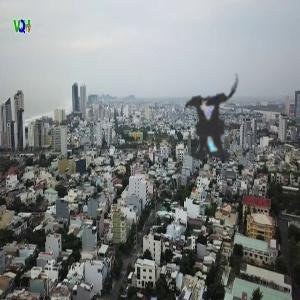drone: (124, 47, 296, 219)
